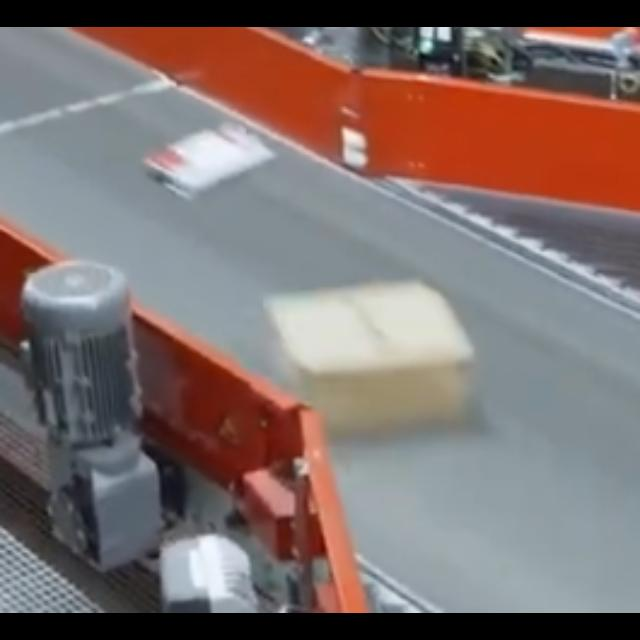box: (270, 282, 474, 436)
mailer: (150, 124, 270, 200)
